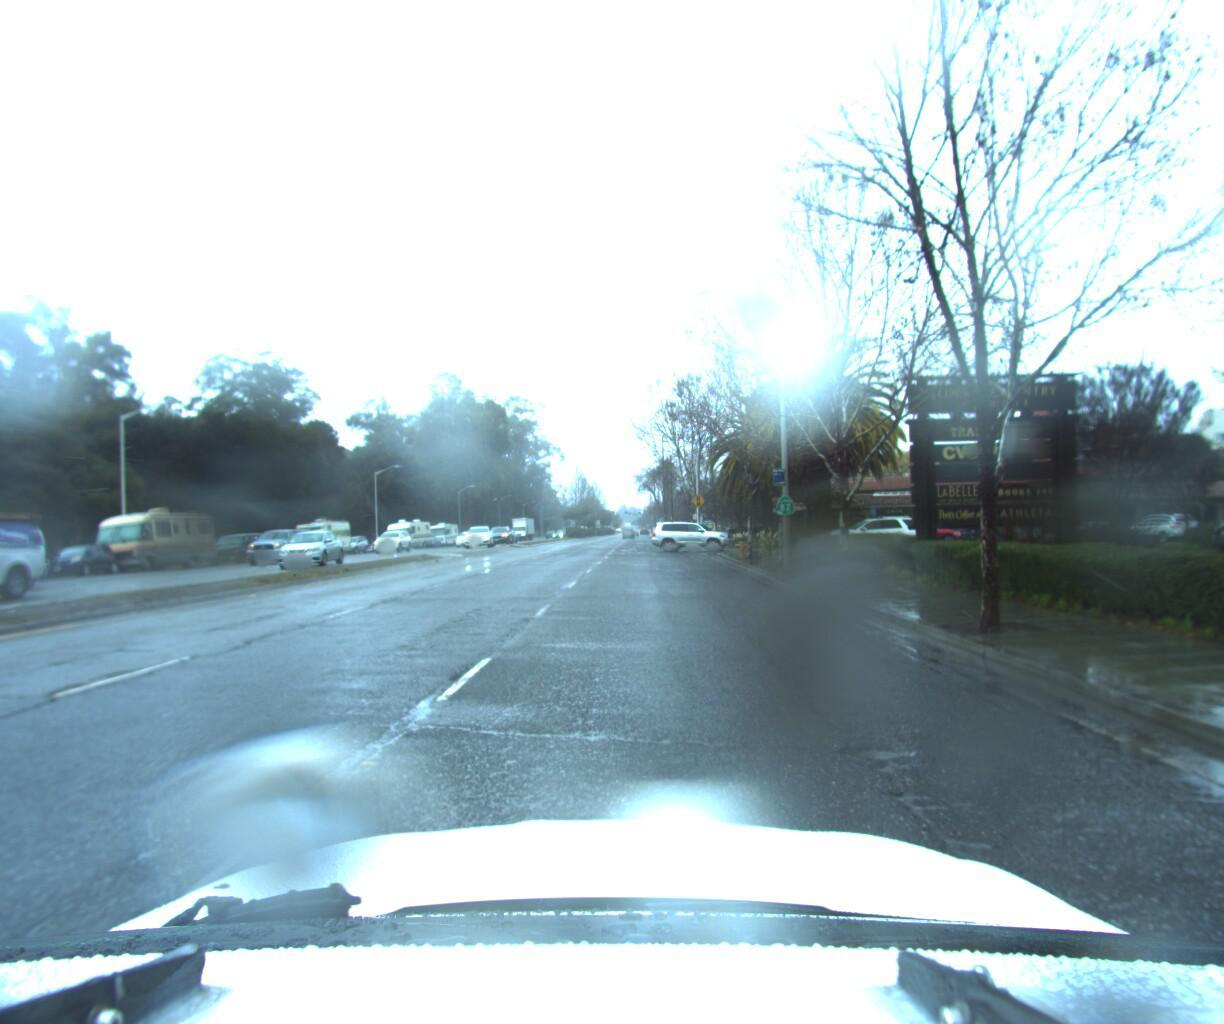bus: (0, 493, 3, 626)
car: (0, 511, 76, 602), (0, 511, 55, 624), (817, 509, 929, 555), (238, 524, 322, 564), (38, 543, 127, 581), (272, 527, 350, 568), (648, 513, 735, 549), (874, 510, 959, 543), (203, 530, 274, 566), (371, 528, 417, 552), (460, 522, 497, 546), (484, 523, 514, 544), (452, 527, 482, 545)
other_vehicle: (79, 504, 222, 578), (291, 516, 354, 557)
